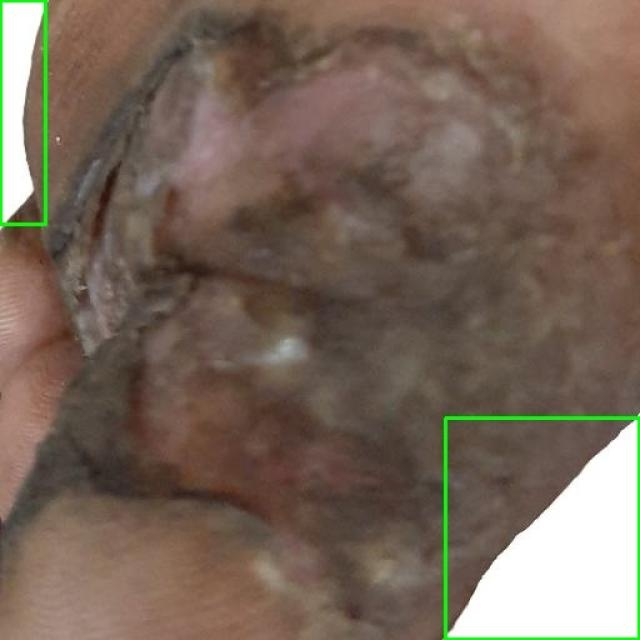Contact Dermatitis: (445, 418, 639, 639), (0, 0, 45, 224)
